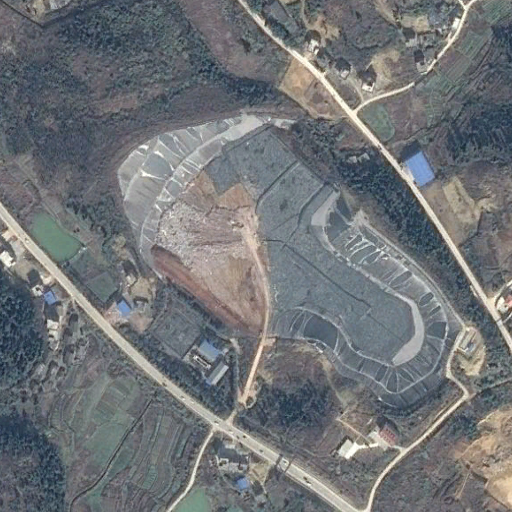lf: (111, 113, 462, 407)
